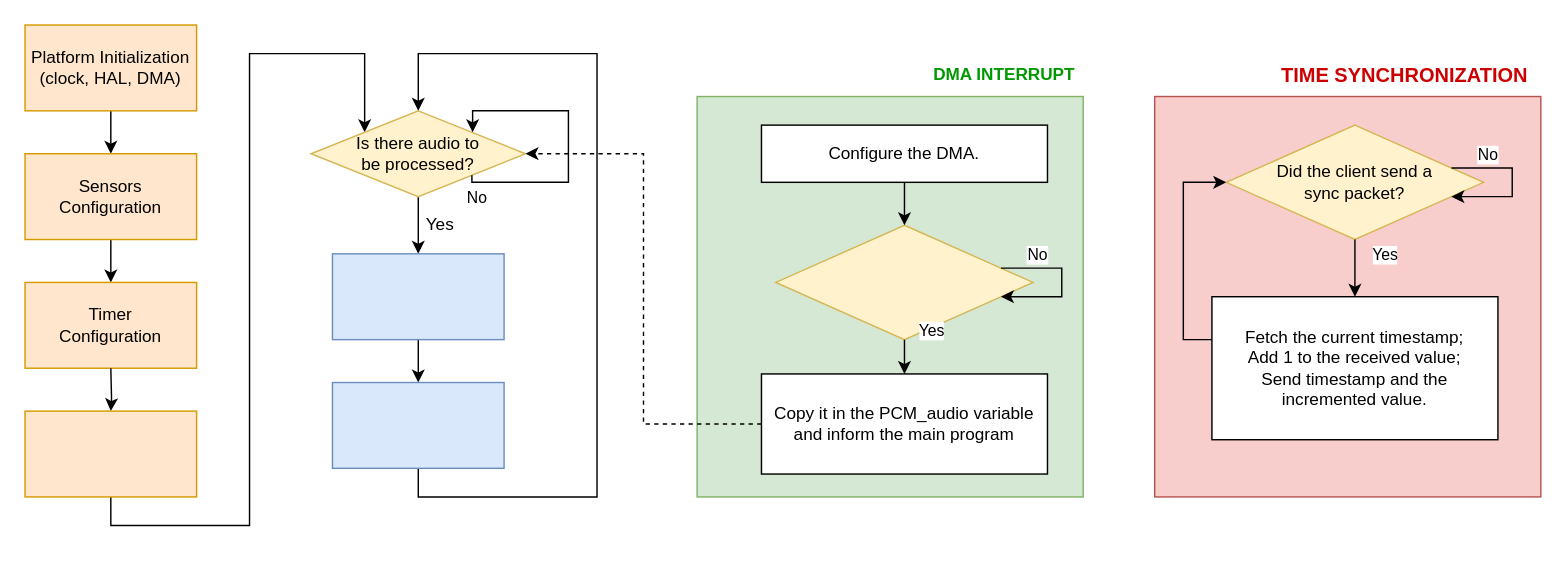
Image size: 1566x562. Some labels were removed from this diagram. Here are the shapes that lost their labels. From the top down, the centre of each, then its label:
At (417,296): "Input audio to the BlueVoice library".
At (903,282): "Are 10ms of mic data available?".
At (417,424): "Publish compressed audio and timestamp over BLE".
At (110,453): "Bluetooth Stack Configuration (including GATT DB)".
